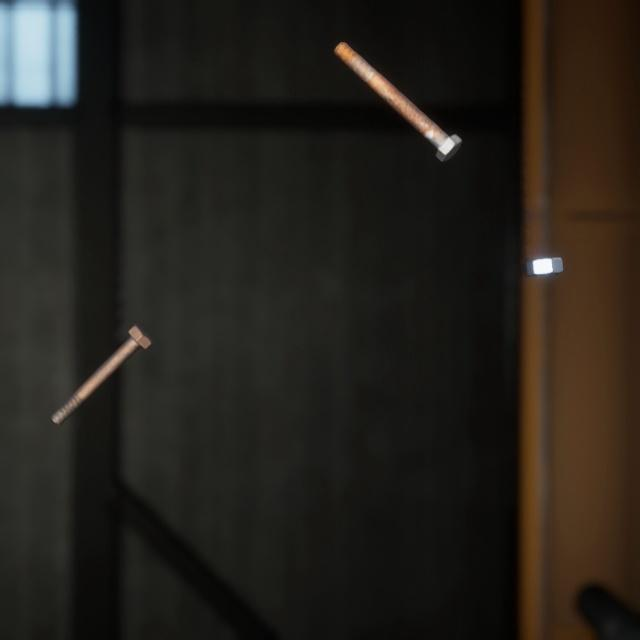bolt: (329, 27, 466, 155), (46, 300, 157, 411)
nut: (521, 236, 567, 264)
